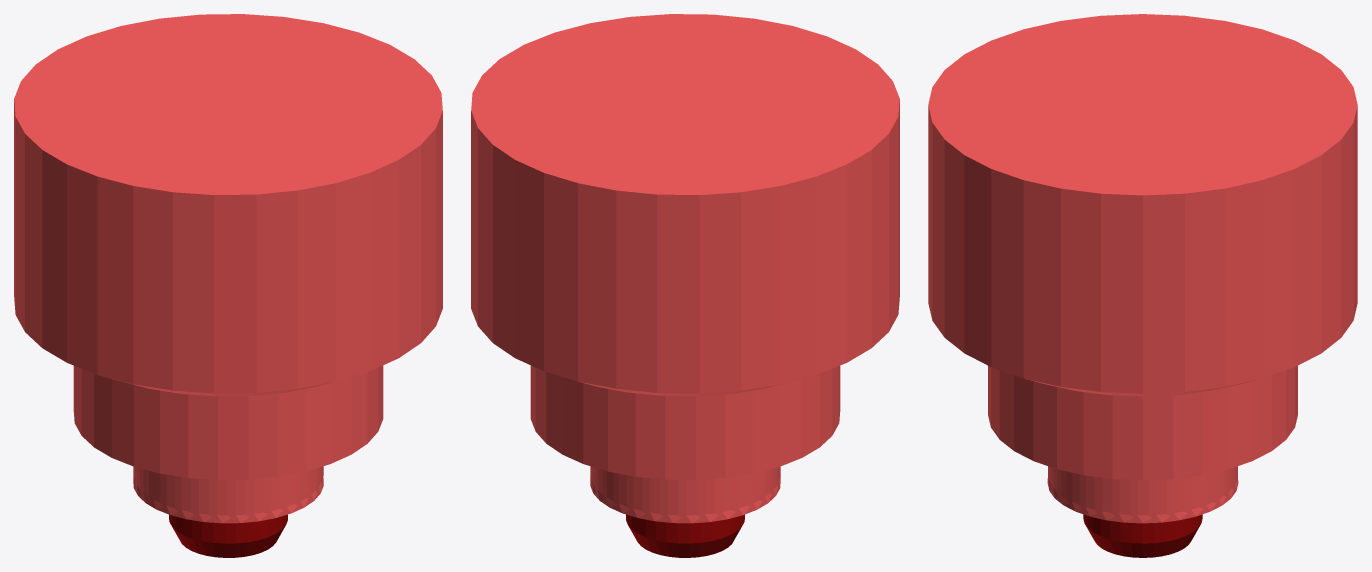
File: target-bottom.fbx
The picture shows the model from 3 angles, left to right: view 1: azimuth 30°, elevation 25°; view 2: azimuth 150°, elevation 25°; view 3: azimuth 270°, elevation 25°; orthographic projection.
Visible parts, largest first — view 1: leg.top, leg.mid, leg.bottom, point; view 2: leg.top, leg.mid, leg.bottom, point; view 3: leg.top, leg.mid, leg.bottom, point.
Part boxes in pixels (left/top/right/bottom): leg.top: left=14, top=14, right=442, bottom=396; leg.mid: left=73, top=365, right=383, bottom=479; leg.bottom: left=133, top=466, right=323, bottom=523; point: left=169, top=514, right=287, bottom=557; leg.top: left=471, top=14, right=899, bottom=396; leg.mid: left=530, top=365, right=840, bottom=479; leg.bottom: left=590, top=466, right=780, bottom=523; point: left=626, top=514, right=744, bottom=557; leg.top: left=928, top=14, right=1357, bottom=396; leg.mid: left=988, top=366, right=1297, bottom=480; leg.bottom: left=1047, top=466, right=1238, bottom=523; point: left=1083, top=514, right=1202, bottom=557.
Bounding box in the file's own units: 360 × 400 × 360.
